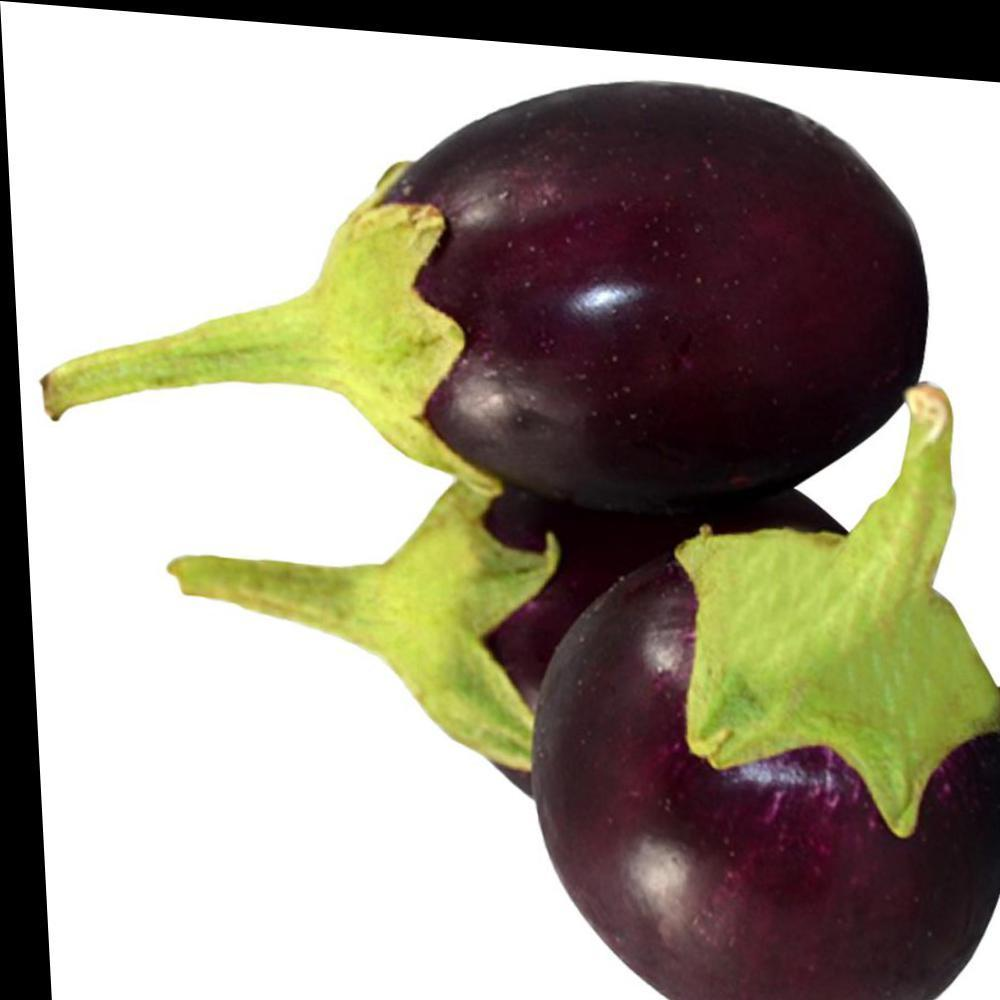eggplant: (122, 26, 936, 780), (491, 401, 999, 999)
